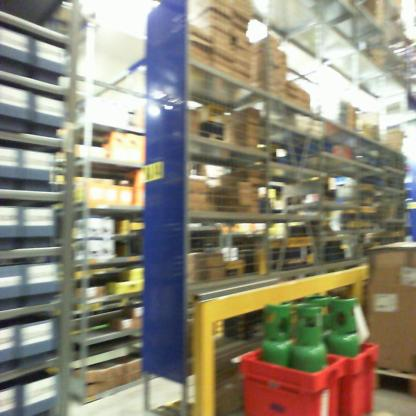pallet: (369, 357, 415, 402)
small_load_carrier: (238, 342, 341, 413), (310, 332, 381, 416)
